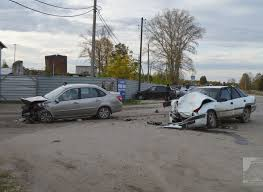car: (21, 68, 140, 139), (160, 67, 260, 136)
